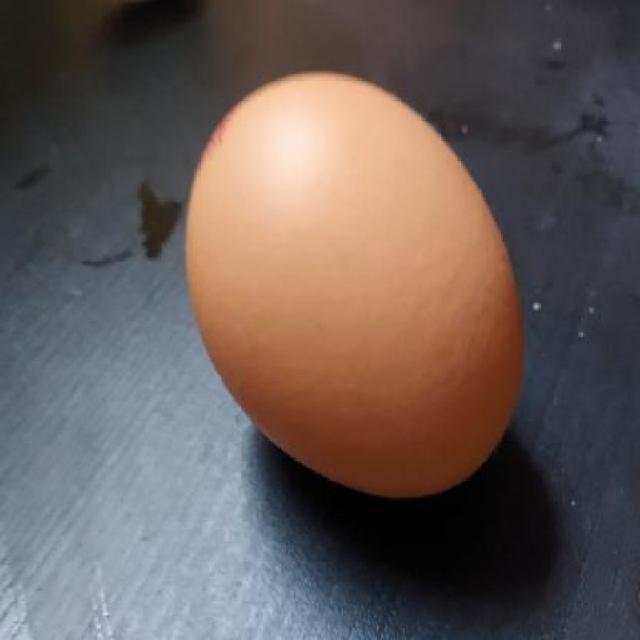biodegradable: (187, 71, 524, 504)
